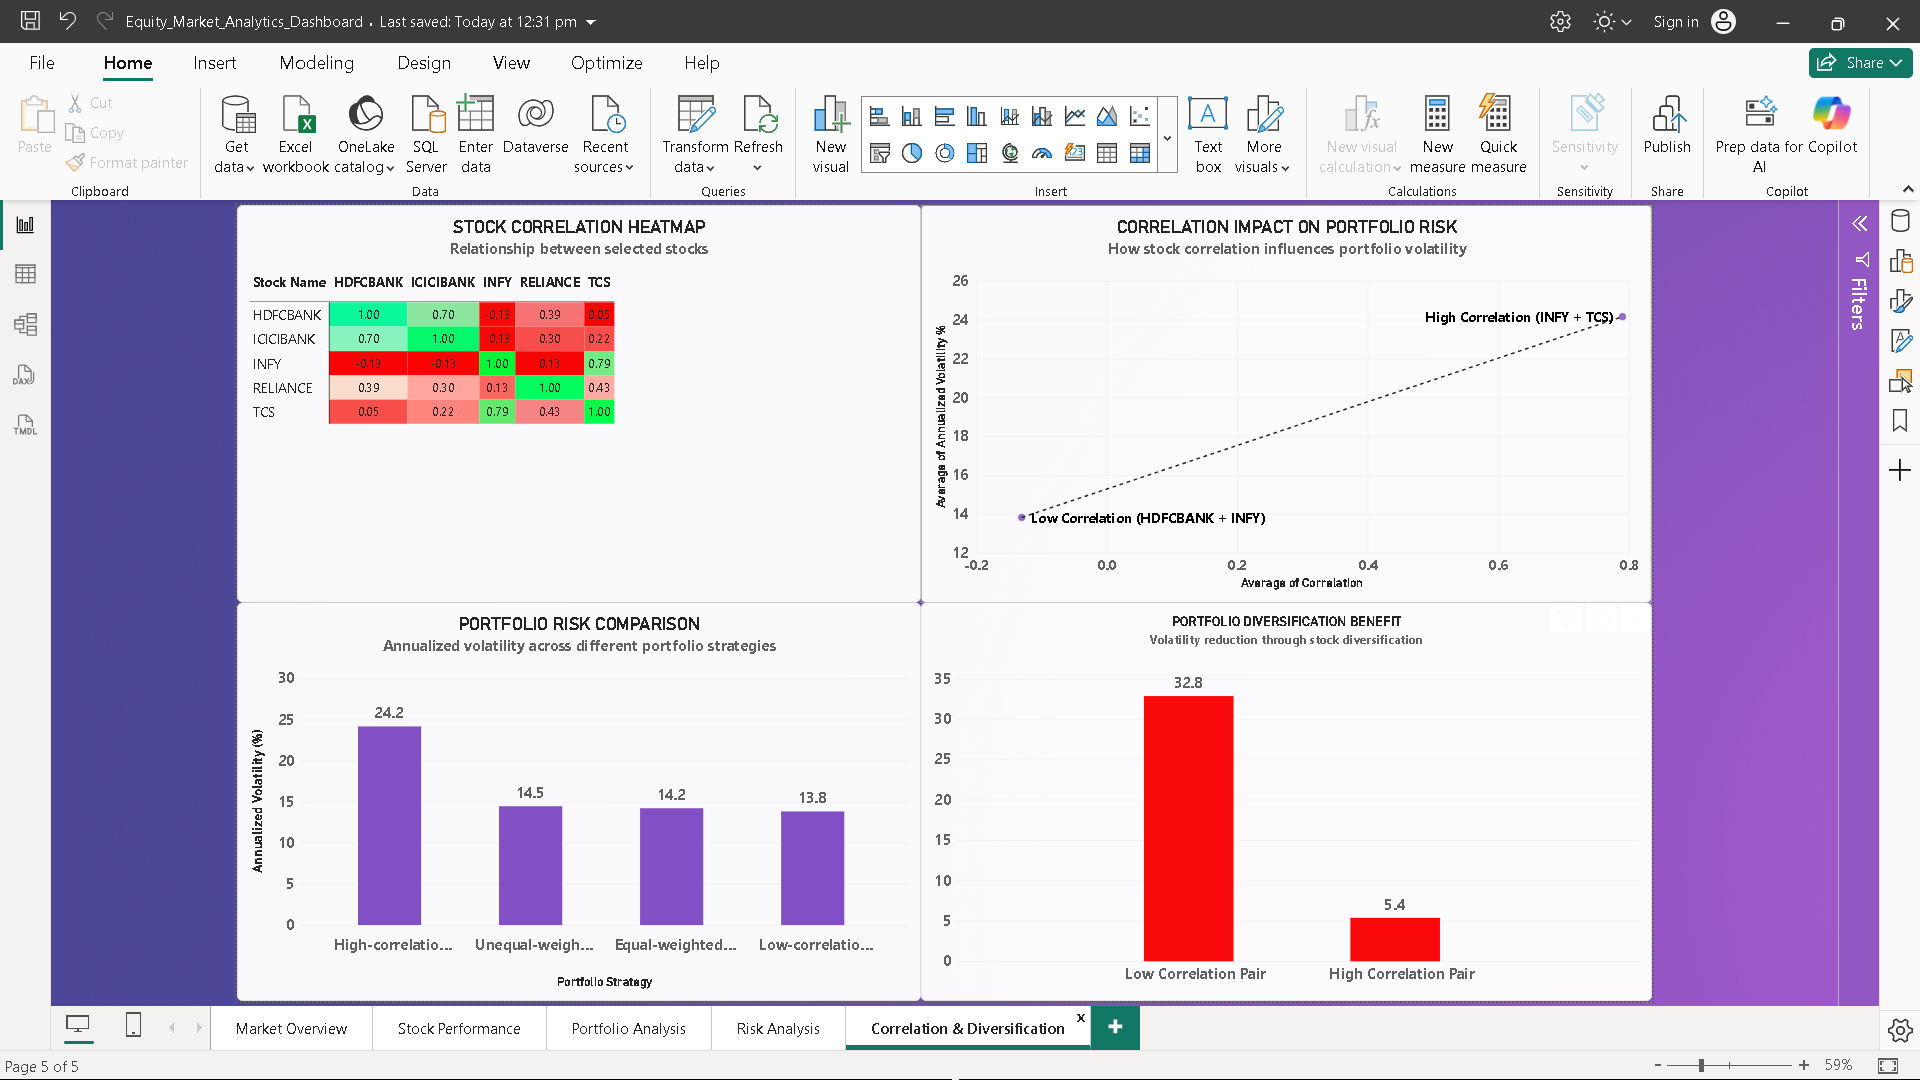

Layout of this report page (visuals, bound fields, positions):
{"tool":"powerbi","page":{"name":"Correlation & Diversification","canvas":[1920,1080],"ordinal":4},"visuals":[{"type":"pivotTable","title":"STOCK CORRELATION HEATMAP","fields":{"Rows":["stock_correlation_matrix.Stock Name"],"Values":["Avg(stock_correlation_matrix.HDFCBANK)","Avg(stock_correlation_matrix.ICICIBANK)","Avg(stock_correlation_matrix.INFY)","Avg(stock_correlation_matrix.RELIANCE)","Avg(stock_correlation_matrix.TCS)"]},"box":[0,0,927.7,539.3],"z":0},{"type":"clusteredColumnChart","title":"PORTFOLIO RISK COMPARISON","fields":{"Category":["Portfolio Risk Comparison.Portfolio"],"Y":["Sum(Portfolio Risk Comparison.Annualized Volatility %)"]},"box":[0,539.3,927.7,541],"z":1},{"type":"scatterChart","title":"CORRELATION IMPACT ON PORTFOLIO RISK","fields":{"Category":["Correlation Impact.Stock Combination"],"X":["Avg(Correlation Impact.Correlation)"],"Y":["Avg(Correlation Impact.Annualized Volatility %)"]},"box":[927.7,0,992.2,539.3],"z":2},{"type":"clusteredColumnChart","title":"PORTFOLIO DIVERSIFICATION BENEFIT","fields":{"Category":["Diversification Benefit.Stock Combination"],"Y":["Sum(Diversification Benefit.Volatility Reduction %)"]},"box":[927.7,539.3,992.2,541],"z":3}]}

Visuals, with their boxes on the page's 1920x1080 design canvas (x1, y1, x2, y2). These are canvas units, not pixel positions in the 1920x1080 screenshot, which may show the page scaled, cropped or inside an application window:
"STOCK CORRELATION HEATMAP" pivotTable: [0,0,928,539]
"PORTFOLIO RISK COMPARISON" clusteredColumnChart: [0,539,928,1080]
"CORRELATION IMPACT ON PORTFOLIO RISK" scatterChart: [928,0,1920,539]
"PORTFOLIO DIVERSIFICATION BENEFIT" clusteredColumnChart: [928,539,1920,1080]
